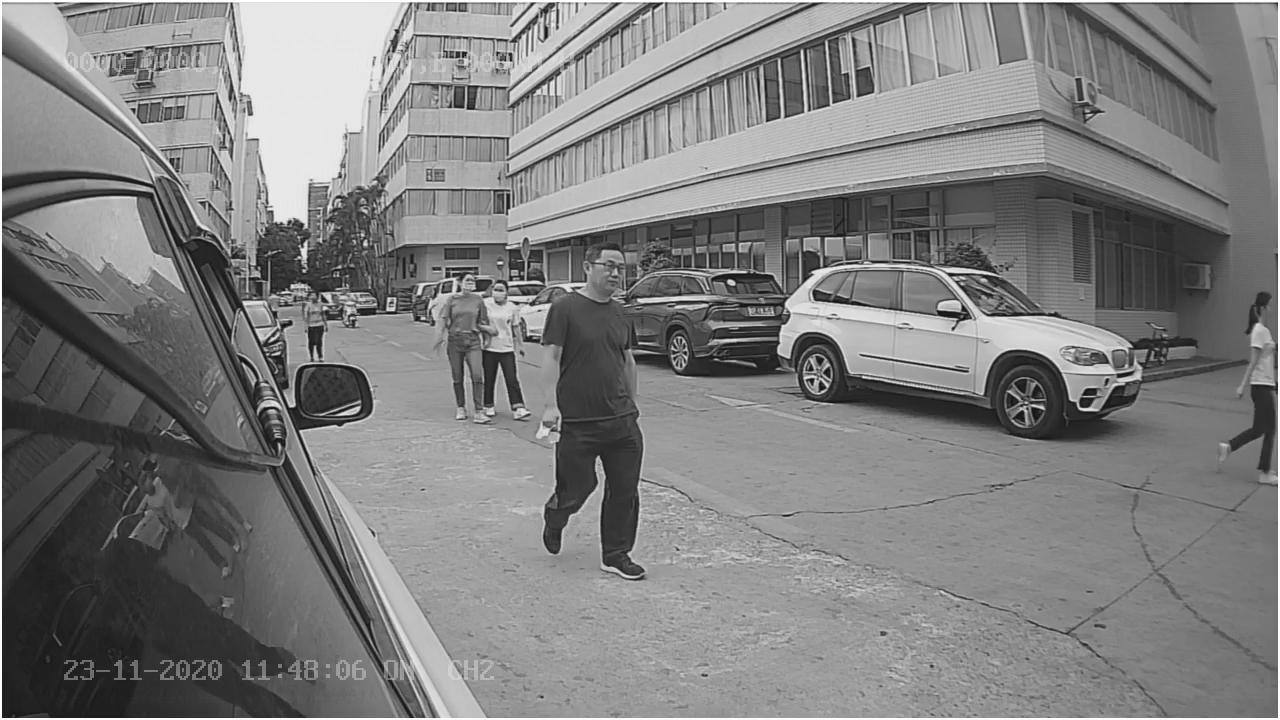person: (541, 244, 655, 582), (1216, 287, 1280, 488), (433, 268, 494, 423)
